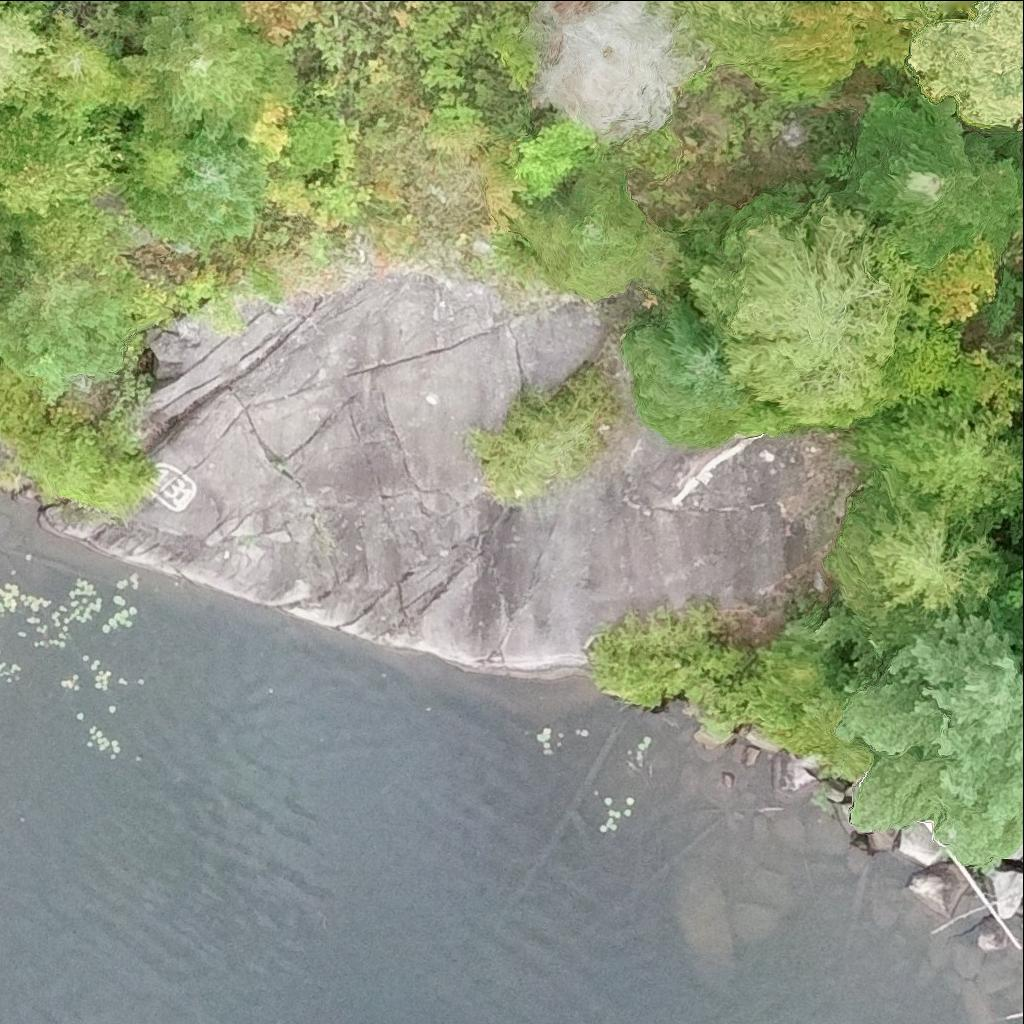crown: (814, 600, 1023, 862), (690, 194, 917, 424), (828, 92, 1023, 266), (826, 464, 1007, 649), (92, 0, 298, 142), (518, 0, 706, 144), (511, 160, 684, 302), (837, 403, 1023, 532), (116, 115, 269, 262), (0, 260, 152, 402), (467, 361, 618, 502), (903, 0, 1023, 131), (632, 297, 745, 433), (31, 13, 159, 117), (0, 149, 106, 227), (16, 198, 126, 268), (0, 0, 49, 143), (697, 0, 744, 21), (999, 571, 1023, 609), (748, 0, 783, 20), (1013, 202, 1023, 236), (1010, 377, 1023, 391), (0, 239, 9, 254), (1016, 333, 1023, 344)
